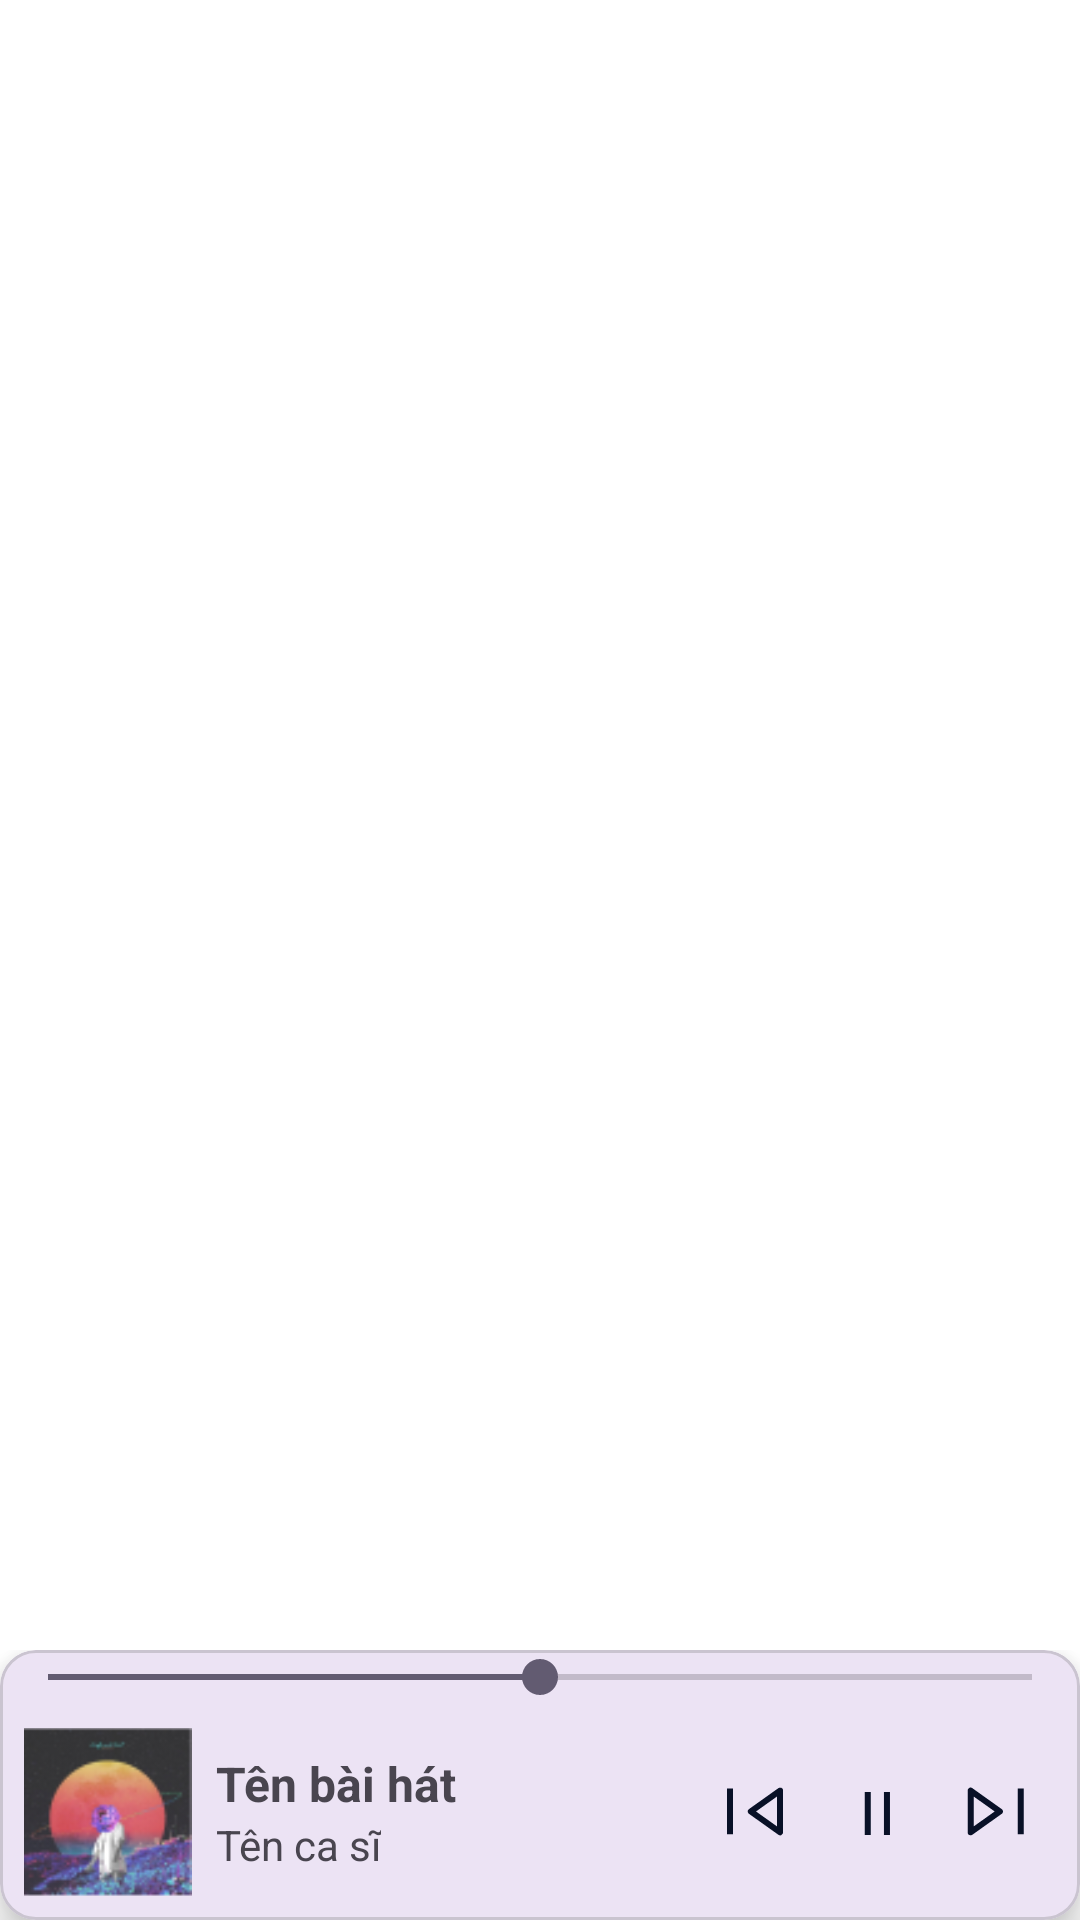

Icon bounding boxes for this 1080x1920 phone screenshot, format (x1, y1, x2, y2):
next left: (727, 1787, 783, 1836)
next right: (967, 1787, 1024, 1836)
pause: (864, 1792, 890, 1835)
